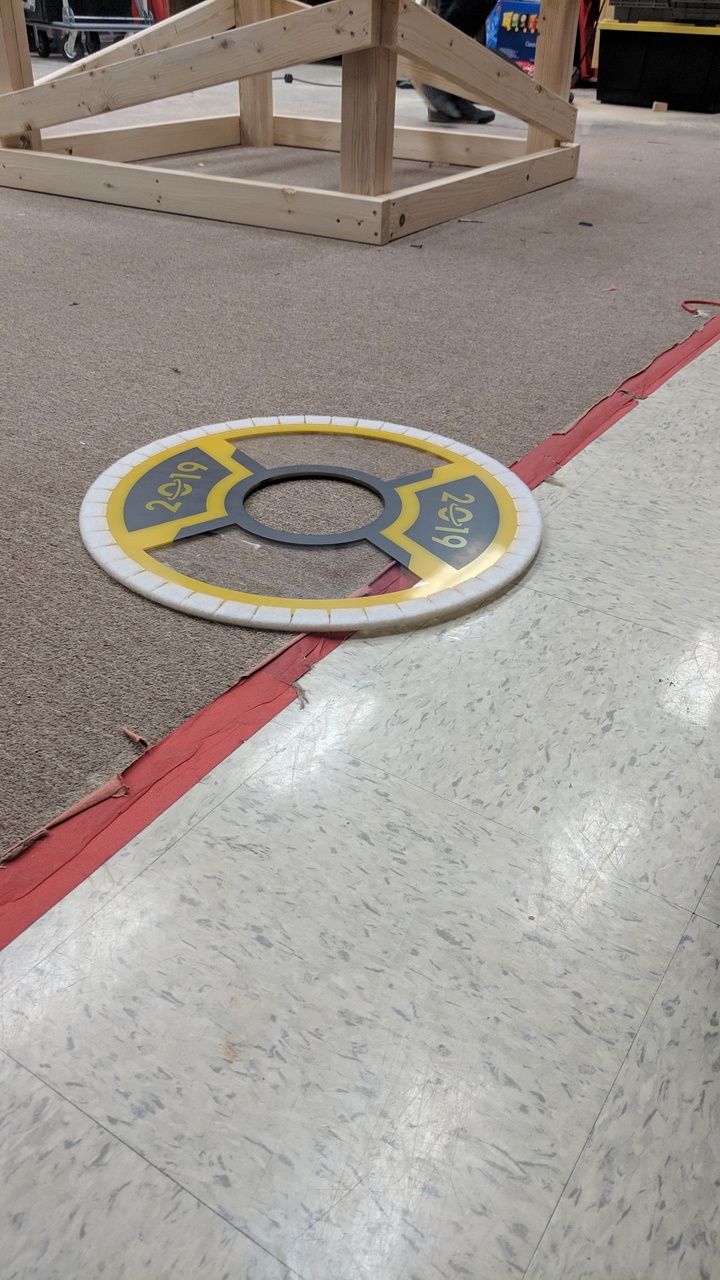hatch_panel: (63, 408, 573, 643)
